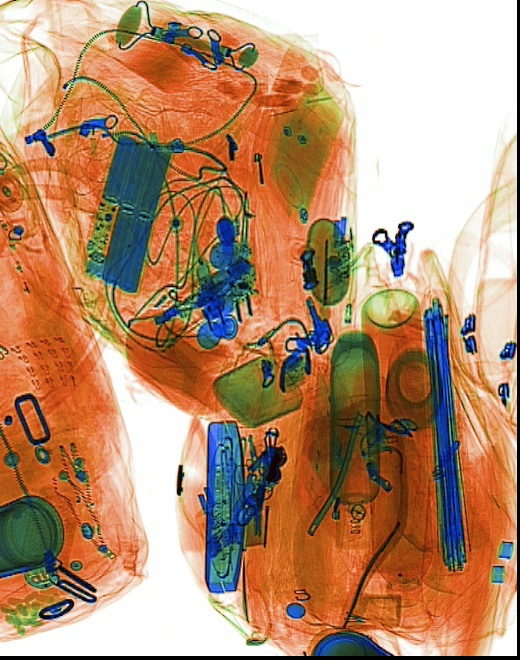powerbank: (80, 130, 173, 296)
pressure: (356, 285, 435, 636)
